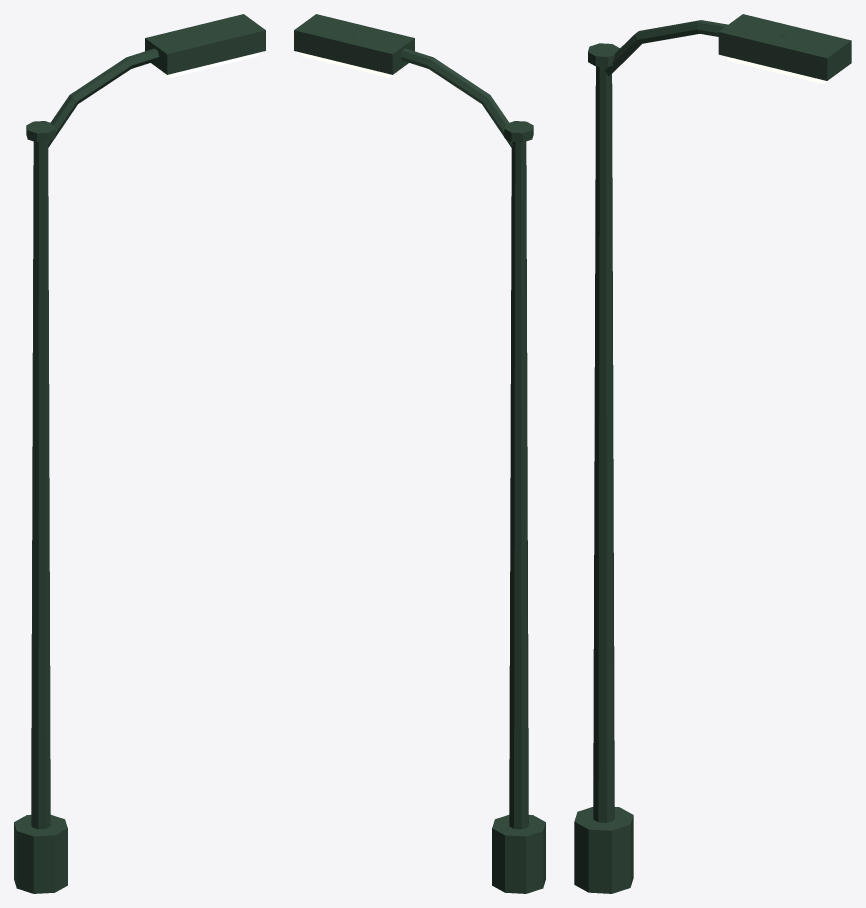
File: street_lamp.glb
3 views of the same model, side by side, from view 1: azimuth 30°, elevation 25°; view 2: azimuth 150°, elevation 25°; view 3: azimuth 330°, elevation 25° (orthographic). The views are drawn at different scales.
Visible parts, largest first — view 1: street_lamp; view 2: street_lamp; view 3: street_lamp.
Boxes of the visible parts, box(x1,y1,x2,y2) form: street_lamp: box(14, 14, 265, 893); street_lamp: box(294, 14, 545, 893); street_lamp: box(574, 14, 851, 893).
Size of the model in its own units: 2.17 by 7.04 by 0.44.
